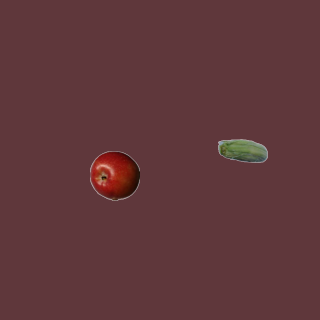Apple Braeburn: (89, 150, 139, 200)
Corn Husk: (217, 127, 267, 177)
